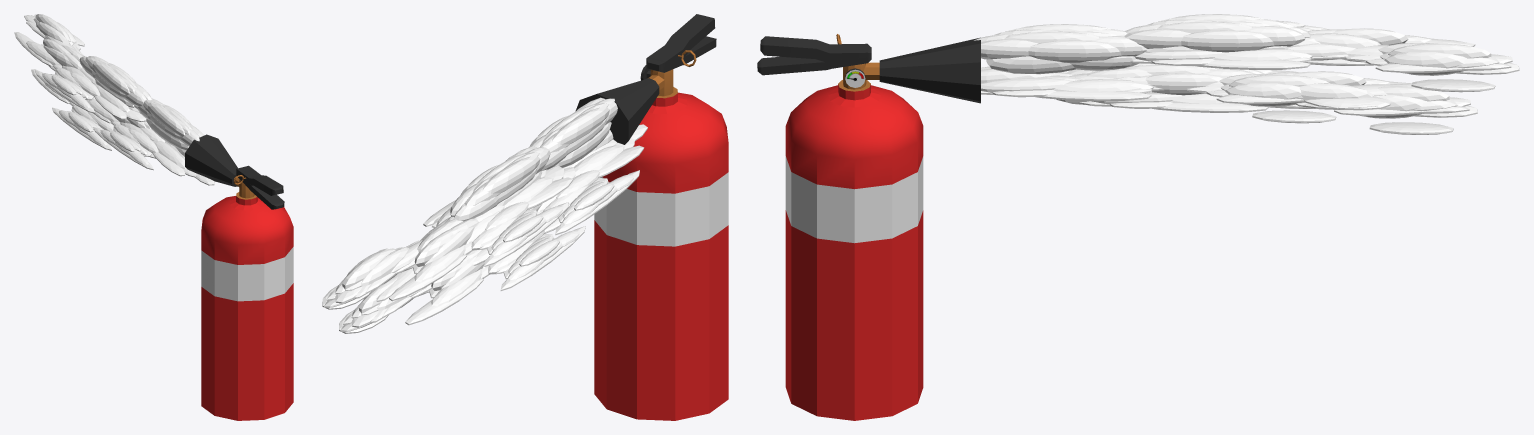
Rendered from spray_form.glb.
3 renders of one model, left to right at view 1: azimuth 30°, elevation 25°; view 2: azimuth 150°, elevation 25°; view 3: azimuth 270°, elevation 25°, orthographic. The views are drawn at different scales.
Visible parts, largest first — view 1: Extinguisher_Mesh.003, group1605710002, group1605710002.002, group1776937014, group55288981, group190727684.002, group1608697677, group2099359452.002, group2134442402.002, group1608697677.002, group2134442402, group1776937014.002 (+2 smaller); view 2: Extinguisher_Mesh.003, group1605710002.002, group1605710002, group190727684.002, group1776937014, group2099359452.001, group2099359452.002, group1299243919.001, group1299243919.002, group239419400.002, group55288981, group2134442402 (+18 smaller); view 3: Extinguisher_Mesh.003, group1876230727, group1876230727.002, group1876230727.001, group1524679223.002, group654747987, group1524679223, group739937855, group1722162954, group2023561107, group50002725, group50002725.002 (+17 smaller).
Boxes of the visible parts, x1,y1,x2,y2 form: Extinguisher_Mesh.003: (185,134,293,420); group1605710002: (148,102,184,136); group1605710002.002: (92,61,129,95); group1776937014: (153,140,186,168); group55288981: (146,119,188,150); group190727684.002: (36,22,69,44); group1608697677: (128,129,158,153); group2099359452.002: (26,41,61,65); group2134442402.002: (94,96,126,119); group1608697677.002: (70,72,100,96); group2134442402: (152,152,185,176); group1776937014.002: (94,84,129,112); Extinguisher_Mesh.003: (575,14,728,420); group1605710002.002: (482,156,540,194); group1605710002: (552,107,609,145); group190727684.002: (361,247,409,286); group1776937014: (574,145,624,176); group2099359452.001: (431,269,482,306); group2099359452.002: (414,244,465,281); group1299243919.001: (405,278,483,325); group1299243919.002: (389,254,466,301); group239419400.002: (342,248,395,289); group55288981: (555,122,611,167); group2134442402: (598,145,644,177); Extinguisher_Mesh.003: (757,34,980,420); group1876230727: (1028,40,1121,62); group1876230727.002: (1181,30,1274,52); group1876230727.001: (1145,73,1222,95); group1524679223.002: (1384,52,1467,75); group654747987: (986,56,1075,74); group1524679223: (1225,83,1301,106); group739937855: (1053,79,1153,91); group1722162954: (981,77,1072,92); group2023561107: (1295,83,1372,104); group50002725: (1035,91,1151,101); group50002725.002: (1195,60,1310,69).
Size of the model in its own units: 2.23 by 5.8 by 10.96.
Materials: 13 (1 with a texture image).
